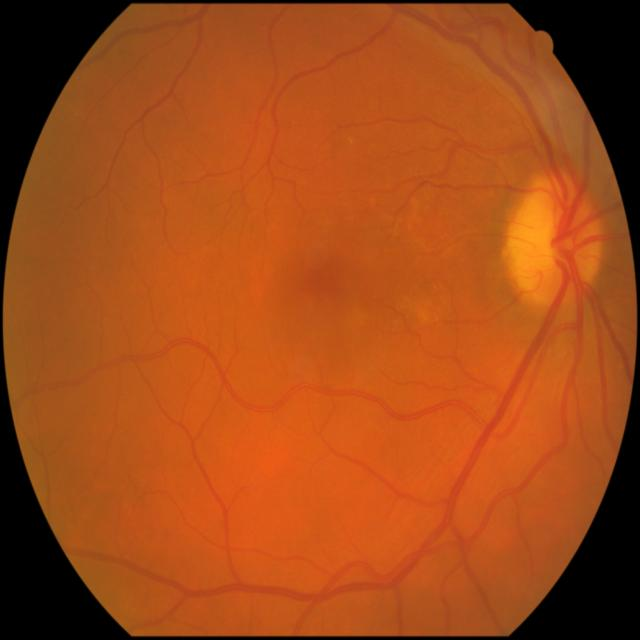OD: (508, 173, 605, 302)
